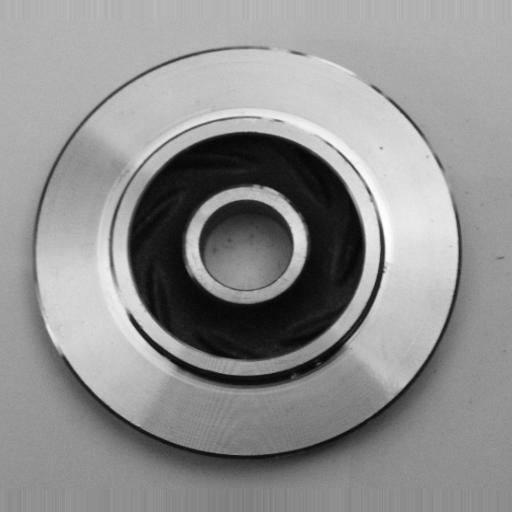scratch: (249, 105, 343, 154)
unpolished_casting: (32, 44, 461, 463)
